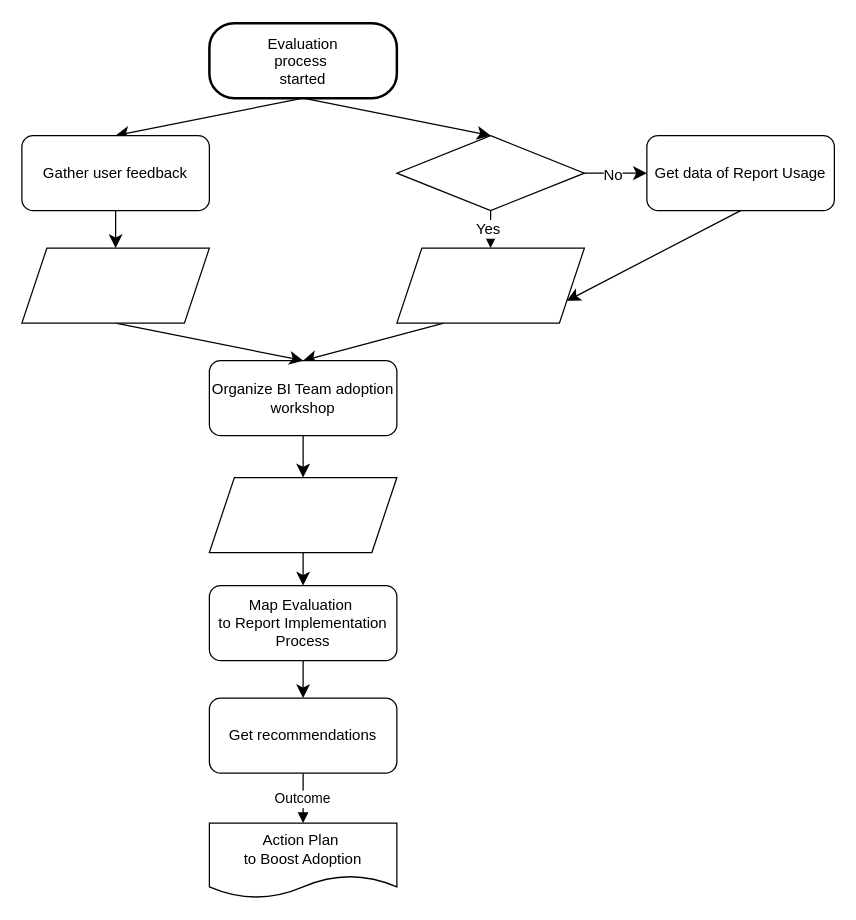
This 856x920 diagram has some shape labels left out. Here are the shapes that lost their labels. From the top down, the centre of each, then its label:
[490,172]: Are data of report usage available?
[115,285]: User Evaluation
[490,285]: Report Usage Metrics
[302,514]: BI Team Evaluation
